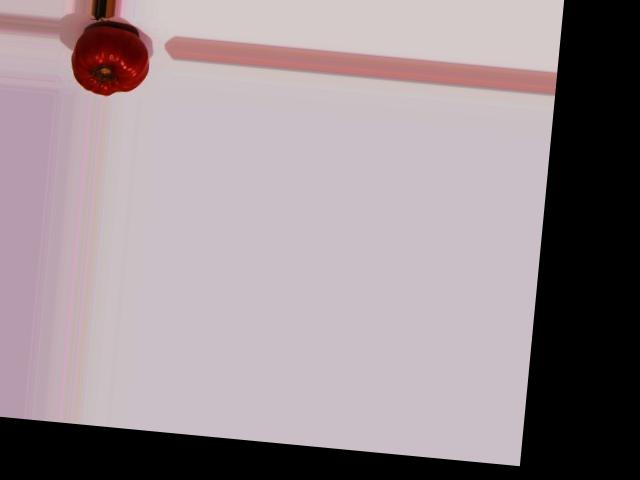tomato: (69, 23, 151, 98)
